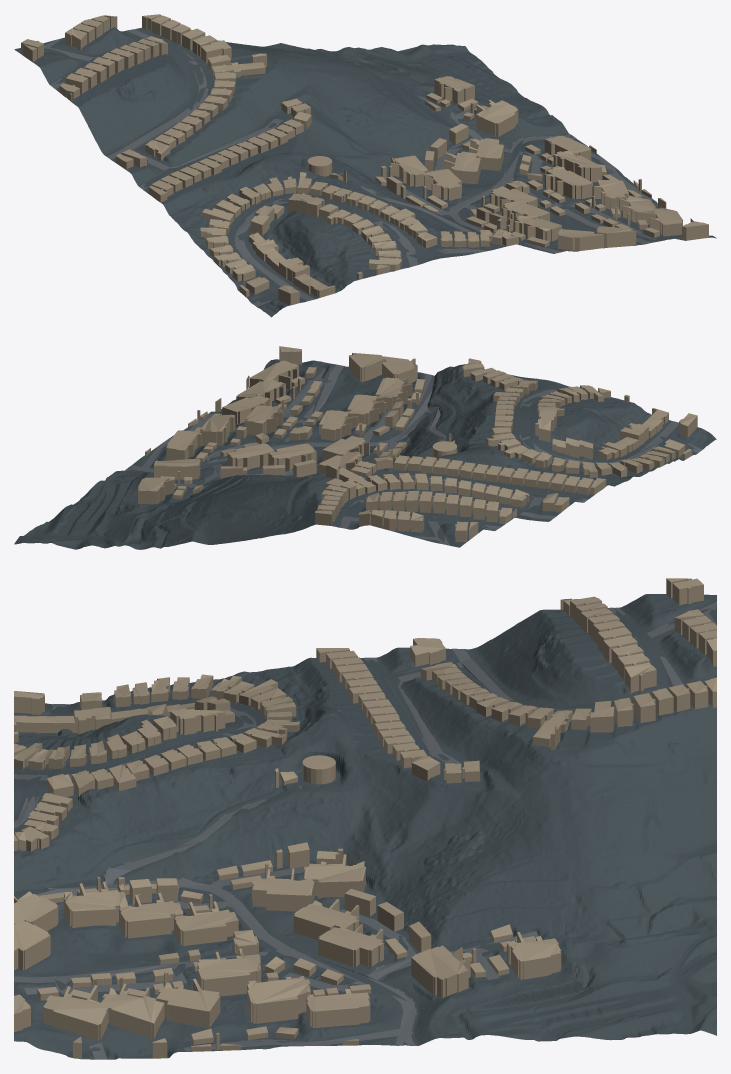
The model's file is epsg26910-1433-10868.lod0.glb.
The picture shows the model from 3 angles, top to bottom: view 1: azimuth 30°, elevation 25°; view 2: azimuth 150°, elevation 25°; view 3: azimuth 270°, elevation 25°; orthographic projection. The views are drawn at different scales.
Visible parts, largest first — view 1: epsg26910-1433-10868-lod0; view 2: epsg26910-1433-10868-lod0; view 3: epsg26910-1433-10868-lod0.
Part boxes in pixels (left/top/right/bottom): epsg26910-1433-10868-lod0: left=14, top=14, right=716, bottom=317; epsg26910-1433-10868-lod0: left=14, top=346, right=716, bottom=549; epsg26910-1433-10868-lod0: left=14, top=578, right=716, bottom=1059.
Bounding box in the file's own units: 384 × 111 × 384.
